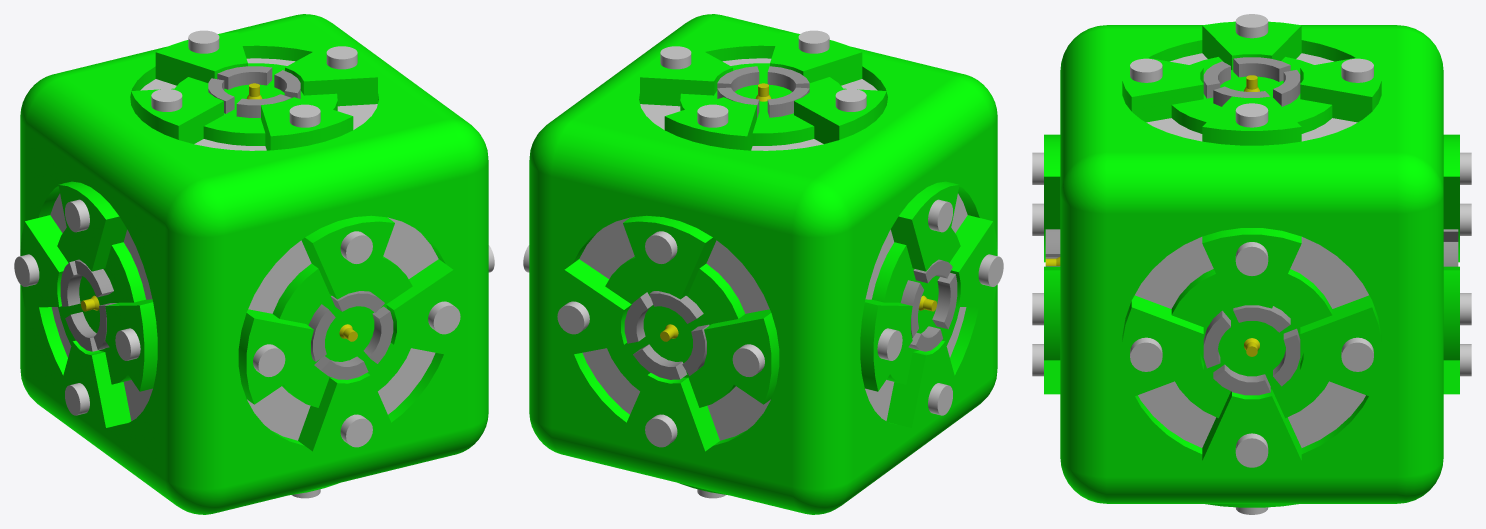
File: passive.dae
3 views of the same model, side by side, from view 1: azimuth 30°, elevation 25°; view 2: azimuth 150°, elevation 25°; view 3: azimuth 270°, elevation 25° (orthographic). The views are drawn at different scales.
Parts seen in each view (by area): view 1: Actor0; view 2: Actor0; view 3: Actor0.
Part boxes in pixels (x1=…): Actor0: x1=14, y1=14, x2=494, y2=514; Actor0: x1=523, y1=14, x2=1003, y2=514; Actor0: x1=1032, y1=14, x2=1471, y2=514.
Bounding box in the file's own units: 0.048 × 0.048 × 0.048.
